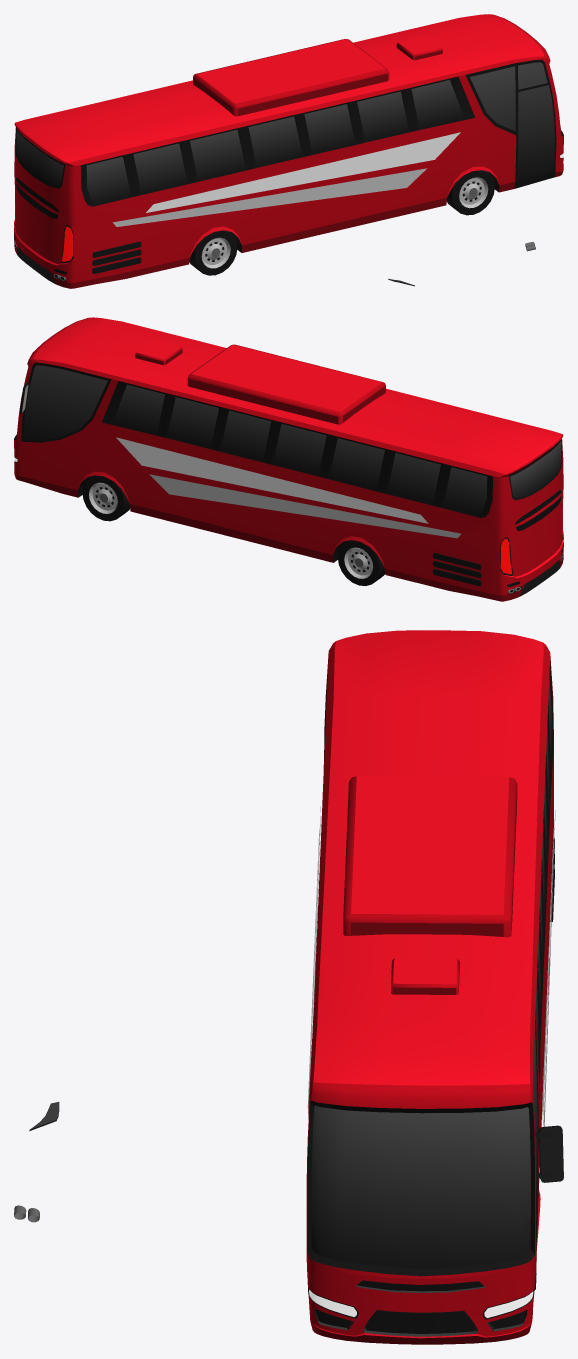
Rendered from Truck_002.glb.
3 views of the same model, one above another, from view 1: azimuth 30°, elevation 25°; view 2: azimuth 150°, elevation 25°; view 3: azimuth 270°, elevation 25° (orthographic). The views are drawn at different scales.
Parts seen in each view (by area): view 1: Truck_002, wheel_1_Truck_002_Wheel_1L.001, wheel_3_Truck_002_Wheel_2L.001; view 2: Truck_002, wheel_0_Truck_002_Wheel_1L, wheel_2_Truck_002_Wheel_2L; view 3: Truck_002.
Boxes of the visible parts, box(x1,y1,x2,y2) form: Truck_002: box(14, 14, 563, 288); wheel_1_Truck_002_Wheel_1L.001: box(447, 170, 494, 215); wheel_3_Truck_002_Wheel_2L.001: box(189, 230, 237, 275); Truck_002: box(14, 317, 563, 601); wheel_0_Truck_002_Wheel_1L: box(82, 475, 130, 521); wheel_2_Truck_002_Wheel_2L: box(337, 540, 385, 585); Truck_002: box(14, 630, 563, 1344).
Size of the model in its own units: 11.5 by 3.41 by 5.68.
Materials: 4 (4 with a texture image).
